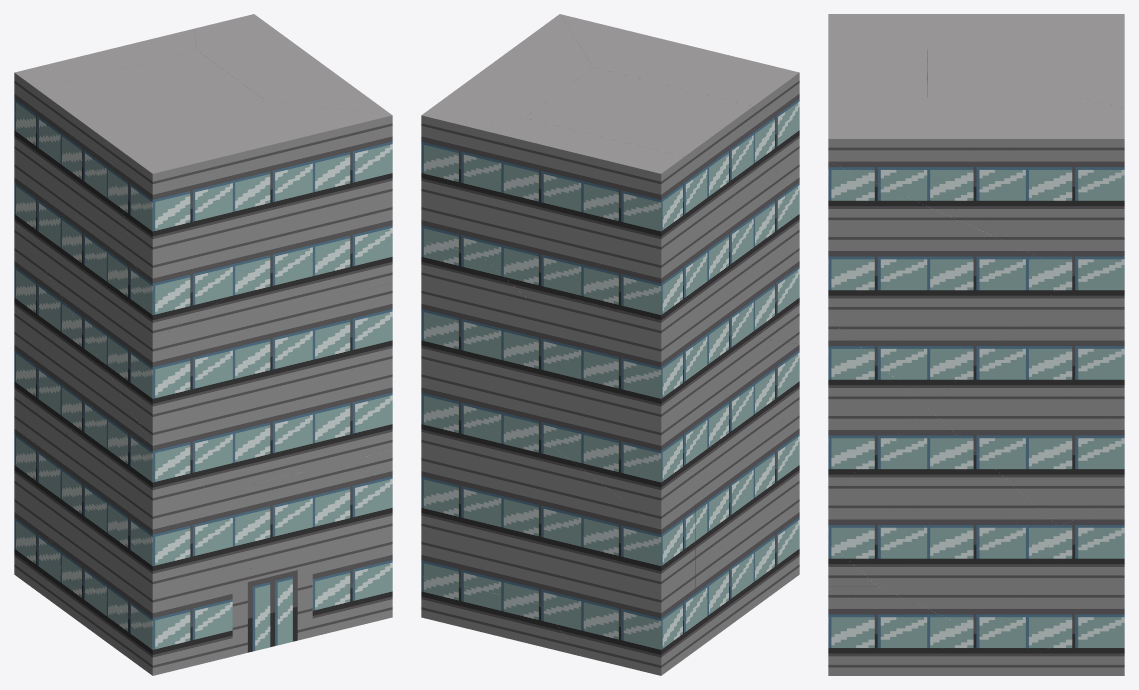
Rendered from Building_3x3x6 Brick.fbx.
3 views of the same model, side by side, from view 1: azimuth 30°, elevation 25°; view 2: azimuth 150°, elevation 25°; view 3: azimuth 270°, elevation 25° (orthographic). The views are drawn at different scales.
Visible parts, largest first — view 1: BuildingConcrete_3x3x6_cell.012, BuildingConcrete_3x3x6_cell.017, BuildingConcrete_3x3x6_cell.010, BuildingConcrete_3x3x6_cell.005, BuildingConcrete_3x3x6_cell.004, BuildingConcrete_3x3x6_cell.008, BuildingConcrete_3x3x6_cell.013, BuildingConcrete_3x3x6_cell.019, BuildingConcrete_3x3x6_cell.007, BuildingConcrete_3x3x6_cell.018, BuildingConcrete_3x3x6.Door, BuildingConcrete_3x3x6_cell.003 (+6 smaller); view 2: BuildingConcrete_3x3x6_cell.008, BuildingConcrete_3x3x6_cell.005, BuildingConcrete_3x3x6_cell.002, BuildingConcrete_3x3x6_cell.014, BuildingConcrete_3x3x6_cell.006, BuildingConcrete_3x3x6_cell.010, BuildingConcrete_3x3x6_cell.001, BuildingConcrete_3x3x6_cell.019, BuildingConcrete_3x3x6_cell.012, BuildingConcrete_3x3x6_cell.013, BuildingConcrete_3x3x6_cell.016, BuildingConcrete_3x3x6_cell.003 (+2 smaller); view 3: BuildingConcrete_3x3x6_cell.019, BuildingConcrete_3x3x6_cell.007, BuildingConcrete_3x3x6_cell.001, BuildingConcrete_3x3x6_cell.015, BuildingConcrete_3x3x6_cell.013, BuildingConcrete_3x3x6_cell, BuildingConcrete_3x3x6_cell.006, BuildingConcrete_3x3x6_cell.012, BuildingConcrete_3x3x6_cell.018, BuildingConcrete_3x3x6_cell.016, BuildingConcrete_3x3x6_cell.002, BuildingConcrete_3x3x6_cell.004.
Part boxes in pixels (left/top/right/bottom): BuildingConcrete_3x3x6_cell.012: left=106, top=101, right=392, bottom=340; BuildingConcrete_3x3x6_cell.017: left=114, top=252, right=352, bottom=493; BuildingConcrete_3x3x6_cell.010: left=49, top=383, right=212, bottom=633; BuildingConcrete_3x3x6_cell.005: left=14, top=89, right=152, bottom=382; BuildingConcrete_3x3x6_cell.004: left=212, top=460, right=392, bottom=619; BuildingConcrete_3x3x6_cell.008: left=14, top=219, right=113, bottom=453; BuildingConcrete_3x3x6_cell.013: left=38, top=50, right=265, bottom=139; BuildingConcrete_3x3x6_cell.019: left=194, top=14, right=391, bottom=115; BuildingConcrete_3x3x6_cell.007: left=303, top=137, right=392, bottom=292; BuildingConcrete_3x3x6_cell.018: left=352, top=283, right=392, bottom=459; BuildingConcrete_3x3x6.Door: left=232, top=553, right=312, bottom=656; BuildingConcrete_3x3x6_cell.003: left=60, top=567, right=212, bottom=675; BuildingConcrete_3x3x6_cell.008: left=528, top=296, right=760, bottom=529; BuildingConcrete_3x3x6_cell.005: left=561, top=106, right=799, bottom=337; BuildingConcrete_3x3x6_cell.002: left=481, top=118, right=683, bottom=299; BuildingConcrete_3x3x6_cell.014: left=541, top=438, right=695, bottom=675; BuildingConcrete_3x3x6_cell.006: left=421, top=420, right=541, bottom=604; BuildingConcrete_3x3x6_cell.010: left=695, top=338, right=799, bottom=599; BuildingConcrete_3x3x6_cell.001: left=421, top=241, right=527, bottom=449; BuildingConcrete_3x3x6_cell.019: left=421, top=14, right=593, bottom=255; BuildingConcrete_3x3x6_cell.012: left=560, top=14, right=799, bottom=238; BuildingConcrete_3x3x6_cell.013: left=525, top=67, right=752, bottom=156; BuildingConcrete_3x3x6_cell.016: left=421, top=575, right=580, bottom=656; BuildingConcrete_3x3x6_cell.003: left=707, top=533, right=799, bottom=641; BuildingConcrete_3x3x6_cell.019: left=828, top=97, right=1124, bottom=273; BuildingConcrete_3x3x6_cell.007: left=828, top=161, right=1074, bottom=407; BuildingConcrete_3x3x6_cell.001: left=927, top=273, right=1124, bottom=526; BuildingConcrete_3x3x6_cell.015: left=828, top=408, right=1058, bottom=638; BuildingConcrete_3x3x6_cell.013: left=927, top=14, right=1075, bottom=97; BuildingConcrete_3x3x6_cell: left=828, top=586, right=992, bottom=675; BuildingConcrete_3x3x6_cell.006: left=1001, top=497, right=1124, bottom=631; BuildingConcrete_3x3x6_cell.012: left=828, top=14, right=926, bottom=138; BuildingConcrete_3x3x6_cell.018: left=828, top=318, right=926, bottom=496; BuildingConcrete_3x3x6_cell.016: left=993, top=631, right=1124, bottom=675; BuildingConcrete_3x3x6_cell.002: left=1075, top=14, right=1124, bottom=107; BuildingConcrete_3x3x6_cell.004: left=828, top=542, right=877, bottom=586.
Size of the model in its own units: 900 by 1800 by 900.
